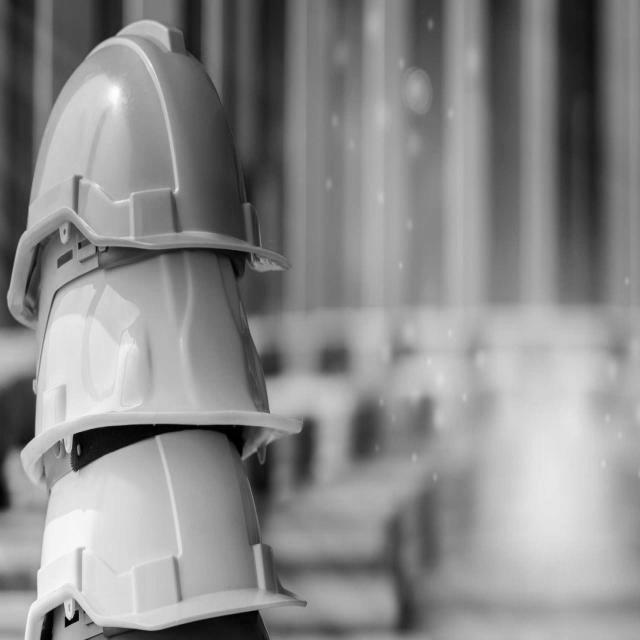construction helmet: (7, 20, 289, 332), (29, 257, 300, 476), (23, 433, 303, 640)
